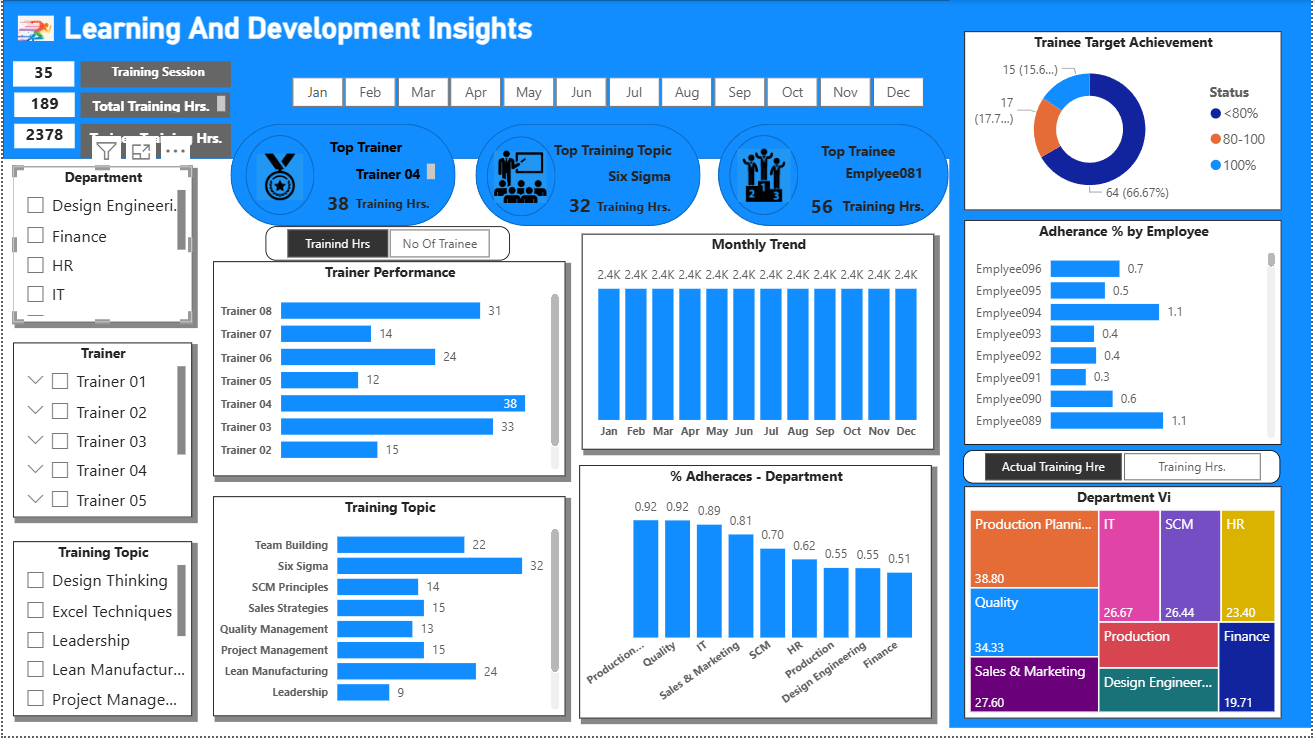

This screenshot's page, from the dashboard's own definition file:
{"tool":"powerbi","page":{"name":"Page 1","canvas":[1280,720],"ordinal":0},"visuals":[{"type":"shape","box":[0,0,1279.7,155.4],"z":0},{"type":"image","box":[10,5,45,45],"z":1000},{"type":"textbox","box":[55,4.9,485.5,45.2],"z":2000},{"type":"card","fields":{"Values":["tbl_TrainingRecords.Measure"]},"box":[10,60,60,25],"z":3000},{"type":"card","fields":{"Values":["Sum(tbl_TrainingRecords.Training Hrs.)"]},"box":[10.8,90,59.5,24.3],"z":4000},{"type":"card","fields":{"Values":["Sum(tbl_TraineeRecords.Training Hrs.)"]},"box":[10.8,121,59.5,24.3],"z":5000},{"type":"textbox","box":[75.7,59.5,147.3,25.7],"z":6000},{"type":"textbox","box":[75.7,121.6,147.3,33.8],"z":7000},{"type":"textbox","box":[75.8,90.5,146.7,24.5],"z":8000},{"type":"shape","box":[223,121.6,220.3,100],"z":9000},{"type":"shape","box":[462.2,121.6,220.3,100],"z":10000},{"type":"shape","box":[700,121.6,225.7,100],"z":11000},{"type":"shape","box":[237.8,132.4,67.6,78.4],"z":12000},{"type":"shape","box":[473,133.8,67.6,78.4],"z":13000},{"type":"shape","box":[710.8,132.4,67.6,78.4],"z":14000},{"type":"image","box":[243.3,143.1,55,59.9],"z":15000},{"type":"image","box":[475.7,136.5,60.8,71.6],"z":16000},{"type":"image","box":[710.8,140.5,67.6,62.2],"z":17000},{"type":"textbox","box":[305.4,129.7,98.6,32.4],"z":18000},{"type":"textbox","box":[333.8,155.3,94.2,25.7],"z":19000},{"type":"textbox","box":[301.4,181.1,54.1,37.8],"z":20000},{"type":"textbox","box":[333.8,185.1,94.6,29.7],"z":21000},{"type":"textbox","box":[529.7,132.4,133.8,36.5],"z":22000},{"type":"textbox","box":[582.4,158.1,81.1,28.4],"z":23000},{"type":"textbox","box":[571.6,186.5,91.9,32.4],"z":24000},{"type":"textbox","box":[536.5,182.4,55.4,35.1],"z":25000},{"type":"textbox","box":[790.5,133.8,93.2,29.7],"z":26000},{"type":"textbox","box":[813.5,155.4,97.3,35.1],"z":27000},{"type":"textbox","box":[780.2,183.4,41.6,37.9],"z":28000},{"type":"textbox","box":[812.2,186.5,98.6,28.4],"z":29000},{"type":"clusteredBarChart","title":"Trainer Performance","fields":{"Category":["tbl_TrainingRecords.Trainer"],"Y":["Ref  Trainer.Trainer Sclicer"]},"box":[205,255,345,210],"z":30000},{"type":"slicer","fields":{"Values":["Ref  Trainer.Option"]},"box":[256.9,221.9,239.4,33.6],"z":31000},{"type":"clusteredBarChart","title":"Training Topic","fields":{"Y":["Ref  Trainer.Trainer Sclicer"],"Category":["tbl_TrainingRecords.Training Topic"]},"box":[205,485,345,215],"z":32000},{"type":"clusteredColumnChart","title":"Monthly Trend","fields":{"Category":["tbl_TrainingRecords.Month Name"],"Y":["Sum(tbl_TraineeRecords.Training Hrs.)"]},"box":[566.2,228.7,344.8,211.6],"z":33000},{"type":"clusteredColumnChart","title":"% Adheraces - Department","fields":{"Category":["tbl_EmpDatabase.Department"],"Y":["tbl_EmpDatabase.Adherance %"]},"box":[563.7,454.9,344.8,248.2],"z":34000},{"type":"textbox","box":[925.7,0,354.6,711.7],"z":35000},{"type":"donutChart","title":"Trainee Target Achievement","fields":{"Category":["tbl_EmpDatabase.Status"],"Y":["CountNonNull(tbl_EmpDatabase.Employee ID)"]},"box":[940,30,310,175],"z":36000},{"type":"clusteredBarChart","title":"Adherance % by Employee ","fields":{"Category":["tbl_EmpDatabase.Employee Name"],"Y":["tbl_EmpDatabase.Adherance %"]},"box":[940.4,215,310.6,220],"z":37000},{"type":"slicer","fields":{"Values":["Ref Department.Option"]},"box":[939.1,440.2,310.6,33],"z":38000},{"type":"treemap","title":"Department Vi","fields":{"Group":["tbl_EmpDatabase.Department"],"Values":["Ref Department.Department Slicer"]},"box":[940.4,475.7,310.6,227.4],"z":39000},{"type":"slicer","title":"Department","fields":{"Values":["tbl_EmpDatabase.Department"]},"box":[9.8,162.6,174.9,152.9],"z":40000},{"type":"slicer","title":"Trainer","fields":{"Values":["tbl_TrainingRecords.Trainer","tbl_TrainingRecords.# Trainer"]},"box":[9.8,335.1,174.9,171.2],"z":41000},{"type":"slicer","title":"Training Topic","fields":{"Values":["tbl_TrainingRecords.Training Topic"]},"box":[9.8,529.5,174.9,171.2],"z":42000},{"type":"slicer","fields":{"Values":["tbl_TrainingRecords.Month Name"]},"box":[256.8,68.5,667.7,42.8],"z":43000}]}

Visuals, with their boxes in screenshot pixels (x1, y1, x2, y2), scaled from the page's 1280x720 canvas onto the 1315x739 screenshot:
shape: box(0, 0, 1314, 160)
image: box(10, 5, 57, 51)
textbox: box(57, 5, 555, 51)
card - tbl_TrainingRecords.Measure: box(10, 62, 72, 87)
card - Sum(tbl_TrainingRecords.Training Hrs.): box(11, 92, 72, 117)
card - Sum(tbl_TraineeRecords.Training Hrs.): box(11, 124, 72, 149)
textbox: box(78, 61, 229, 87)
textbox: box(78, 125, 229, 160)
textbox: box(78, 93, 229, 118)
shape: box(229, 125, 455, 227)
shape: box(475, 125, 701, 227)
shape: box(719, 125, 951, 227)
shape: box(244, 136, 314, 216)
shape: box(486, 137, 555, 218)
shape: box(730, 136, 800, 216)
image: box(250, 147, 306, 208)
image: box(489, 140, 551, 214)
image: box(730, 144, 800, 208)
textbox: box(314, 133, 415, 166)
textbox: box(343, 159, 440, 186)
textbox: box(310, 186, 365, 225)
textbox: box(343, 190, 440, 220)
textbox: box(544, 136, 682, 173)
textbox: box(598, 162, 682, 191)
textbox: box(587, 191, 682, 225)
textbox: box(551, 187, 608, 223)
textbox: box(812, 137, 908, 168)
textbox: box(836, 160, 936, 196)
textbox: box(802, 188, 844, 227)
textbox: box(834, 191, 936, 221)
"Trainer Performance" clusteredBarChart: box(211, 262, 565, 477)
slicer - Ref  Trainer.Option: box(264, 228, 510, 262)
"Training Topic" clusteredBarChart: box(211, 498, 565, 718)
"Monthly Trend" clusteredColumnChart: box(582, 235, 936, 452)
"% Adheraces - Department" clusteredColumnChart: box(579, 467, 933, 722)
textbox: box(951, 0, 1314, 730)
"Trainee Target Achievement" donutChart: box(966, 31, 1284, 210)
"Adherance % by Employee " clusteredBarChart: box(966, 221, 1285, 446)
slicer - Ref Department.Option: box(965, 452, 1284, 486)
"Department Vi" treemap: box(966, 488, 1285, 722)
"Department" slicer: box(10, 167, 190, 324)
"Trainer" slicer: box(10, 344, 190, 520)
"Training Topic" slicer: box(10, 543, 190, 719)
slicer - tbl_TrainingRecords.Month Name: box(264, 70, 950, 114)
